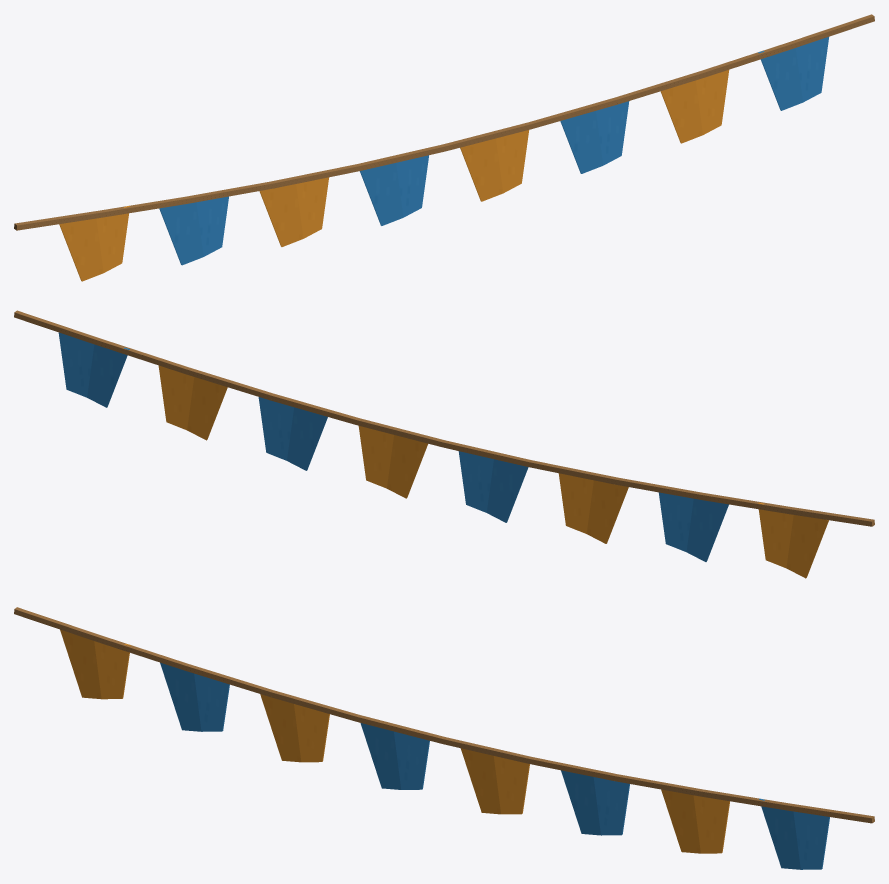
The model's file is bunting.glb.
3 renders of one model, top to bottom at view 1: azimuth 30°, elevation 25°; view 2: azimuth 150°, elevation 25°; view 3: azimuth 330°, elevation 25°, orthographic.
Visible parts, largest first — view 1: bunting; view 2: bunting; view 3: bunting.
Part boxes in pixels (x1,y1,x2,y2): bunting: (14,14,874,281); bunting: (14,310,874,578); bunting: (14,607,874,869).
Size of the model in its own units: 4.38 by 0.444 by 0.024.
3 materials, 3 textured.
